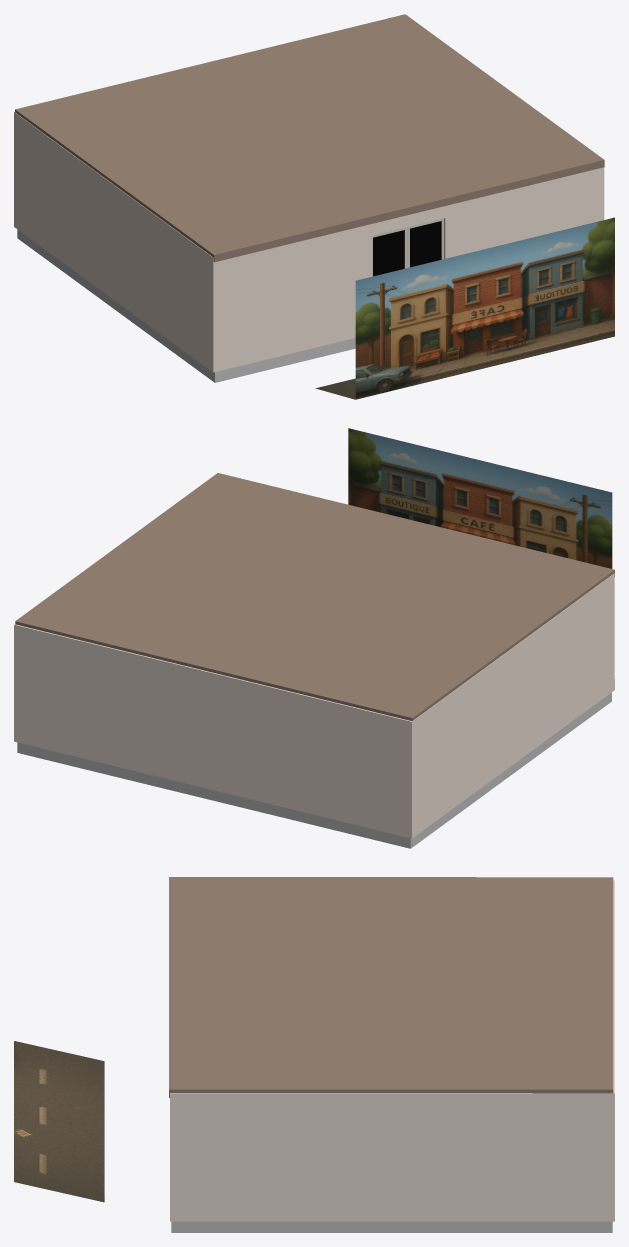
File: StoreScene.fbx
3 renders of one model, top to bottom at view 1: azimuth 30°, elevation 25°; view 2: azimuth 150°, elevation 25°; view 3: azimuth 270°, elevation 25°, orthographic. The views are drawn at different scales.
Visible parts, largest first — view 1: Roof and Floor, Wall, Plane_1, Floors, Glass2, Glass; view 2: Roof and Floor, Wall, Plane_1, Floors; view 3: Roof and Floor, Wall, Plane_1, Floors.
Part boxes in pixels (x1,y1,x2,y2): Roof and Floor: (15,14,604,262); Wall: (14,112,604,372); Plane_1: (315,217,614,399); Floors: (17,229,355,382); Glass2: (373,230,404,276); Glass: (410,221,441,267); Roof and Floor: (15,473,614,721); Wall: (14,573,614,838); Plane_1: (348,428,612,568); Floors: (17,692,611,848); Roof and Floor: (169,877,613,1097); Wall: (170,880,614,1221); Plane_1: (14,1041,104,1202); Floors: (171,1221,612,1232).
Bounding box in the file's own units: 6010 × 2017 × 7164.
